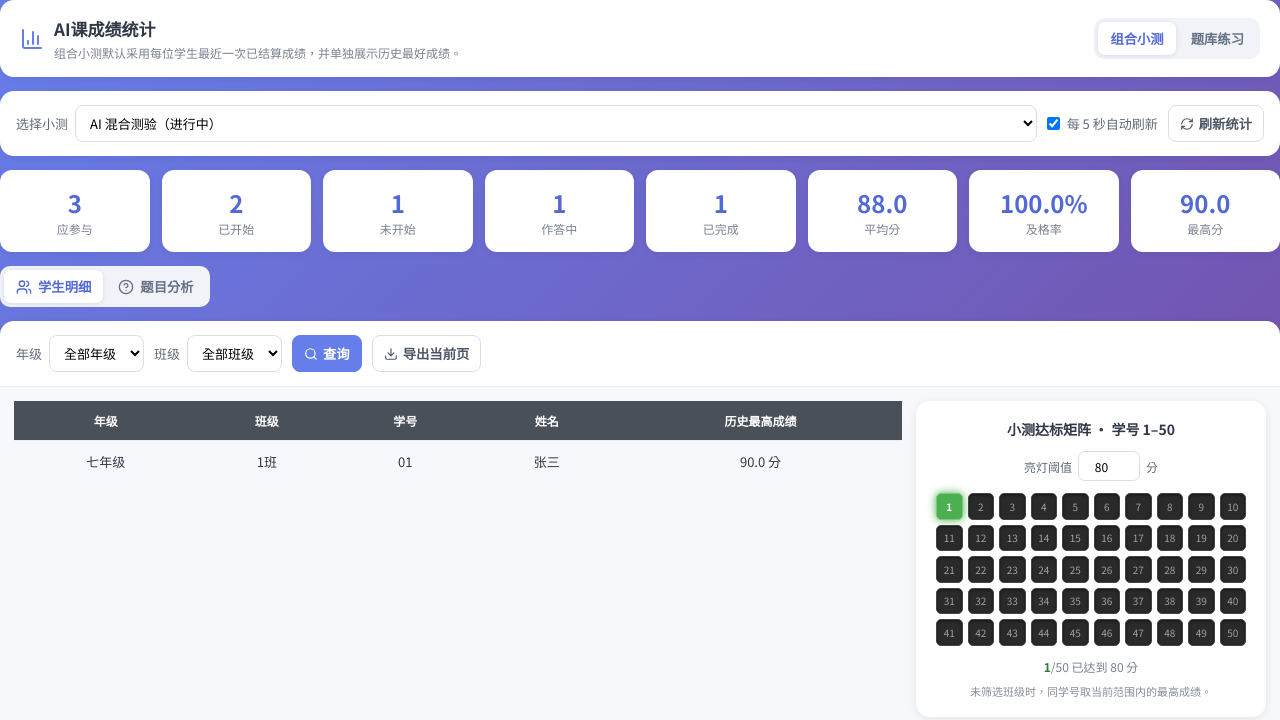
Test: AIQuizStatsTab Step 10 › 按冻结源选项展示选择题分布，并安全显示题干代码
This screenshot has width=1280, height=720.
Check: the text "张三" is shown, box 474,440 -> 619,482
Click the tab "题目分析". click: (156, 286)
box: 106,270 -> 206,303
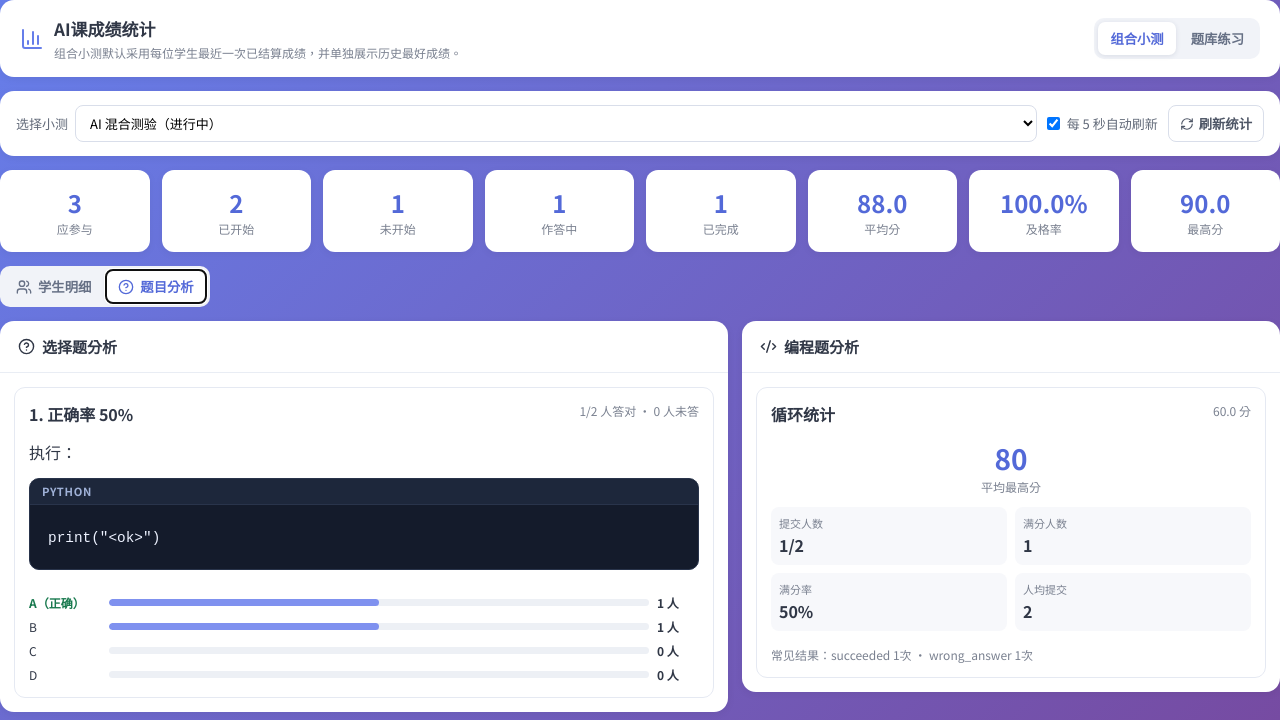
Check: the text "1. 正确率 50%" is shown, box 29,402 -> 133,426
Check: the text "循环统计" is shown, box 771,402 -> 835,426
Check: the text "print(\"<ok>\")" is shown, box 48,530 -> 160,546
